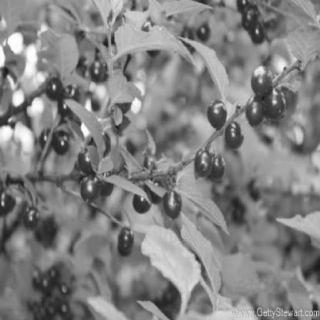other: (245, 64, 289, 132)
